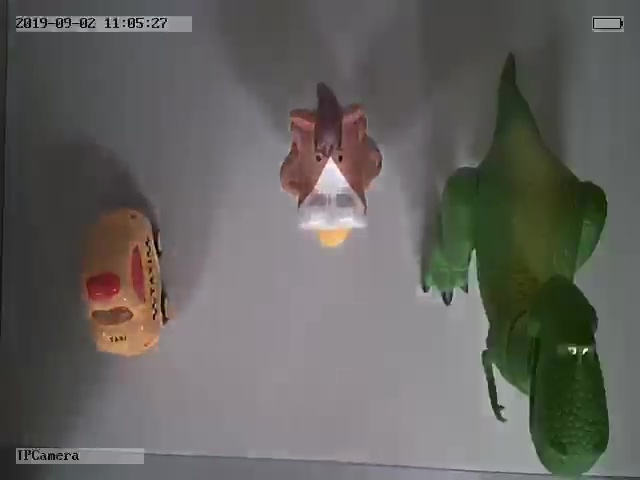car: (78, 204, 169, 358)
horse: (279, 82, 384, 246)
rex: (420, 81, 609, 476)
